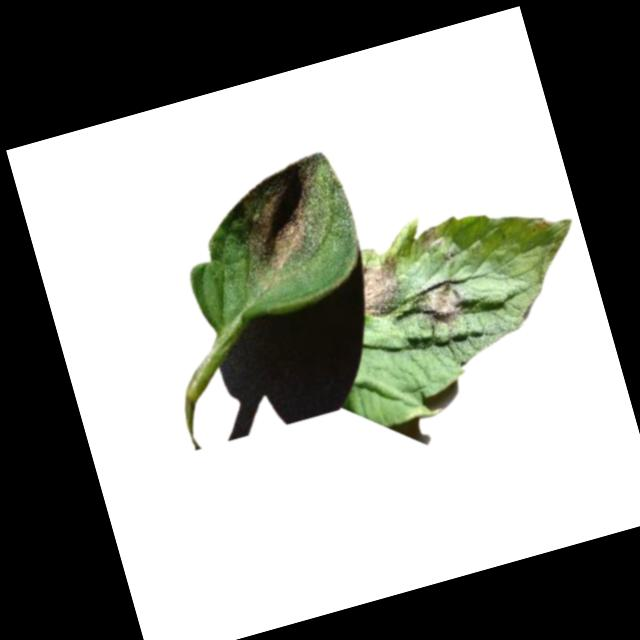Late_blight: (227, 153, 342, 279), (352, 254, 410, 323), (406, 274, 469, 335), (416, 222, 448, 258), (527, 212, 552, 233)
